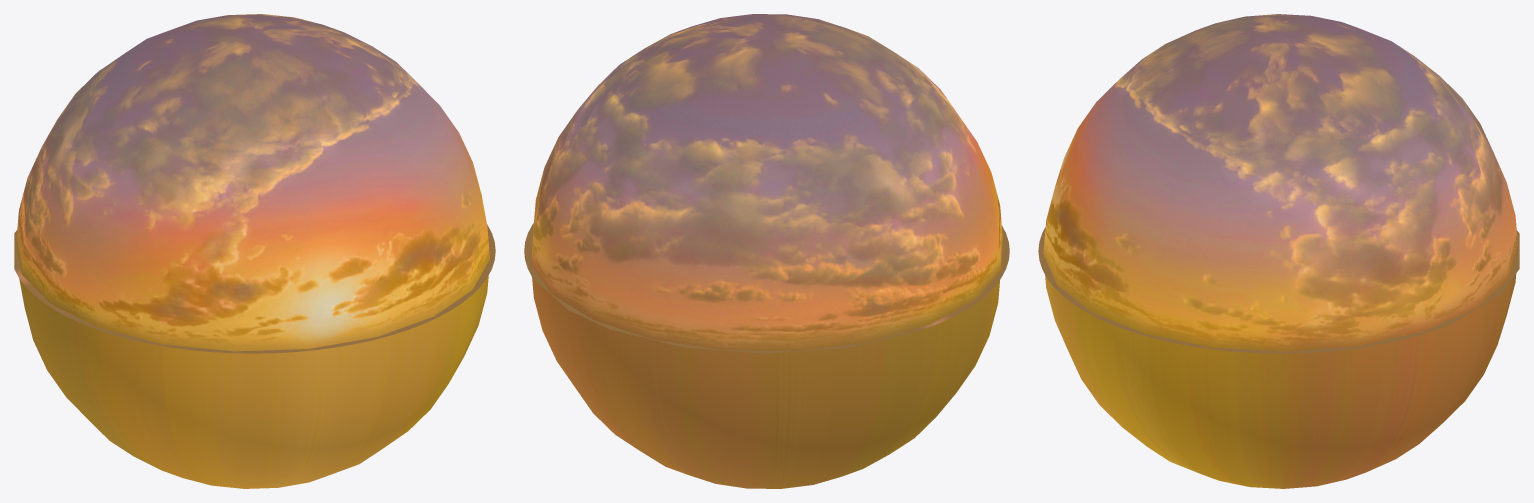
File: RaceTrack.glb
3 renders of one model, left to right at view 1: azimuth 30°, elevation 25°; view 2: azimuth 150°, elevation 25°; view 3: azimuth 270°, elevation 25°, orthographic.
Visible parts, largest first — view 1: VR_mesh_M_Wiidc_VR_0, F_Ocean1_M_Wiidc_Ocean_0; view 2: VR_mesh_M_Wiidc_VR_0, F_Ocean1_M_Wiidc_Ocean_0; view 3: VR_mesh_M_Wiidc_VR_0, F_Ocean1_M_Wiidc_Ocean_0.
Part boxes in pixels (x1,y1,x2,y2): VR_mesh_M_Wiidc_VR_0: (16,14,489,488); F_Ocean1_M_Wiidc_Ocean_0: (14,224,495,353); VR_mesh_M_Wiidc_VR_0: (531,14,1002,488); F_Ocean1_M_Wiidc_Ocean_0: (524,223,1009,353); VR_mesh_M_Wiidc_VR_0: (1043,14,1518,488); F_Ocean1_M_Wiidc_Ocean_0: (1038,227,1519,353).
Size of what is drawn, in the model's own units: 91.81 by 90 by 91.11.
Materials: 14 (7 with a texture image).
